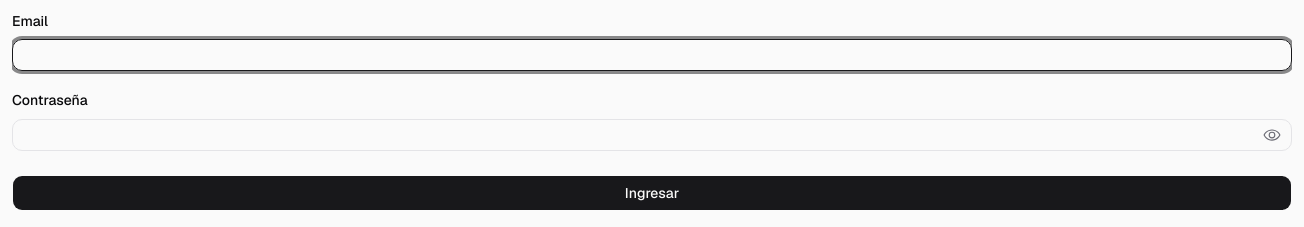
Test: LoginForm › disables the button while signing in
Type "persona@taller.com" into the field labelled "Email".
click(652, 55); type("persona@taller.com")  # box [12,39,1292,71]
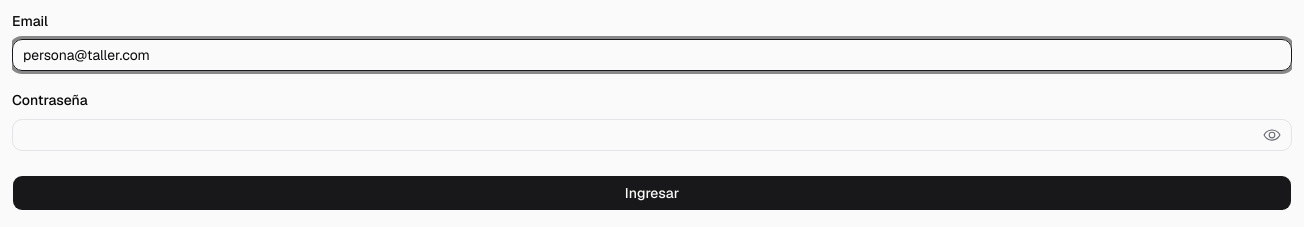
Type "una-clave-larga" into the password field labelled "Contraseña".
click(652, 134); type("una-clave-larga")  # box [12,118,1292,150]
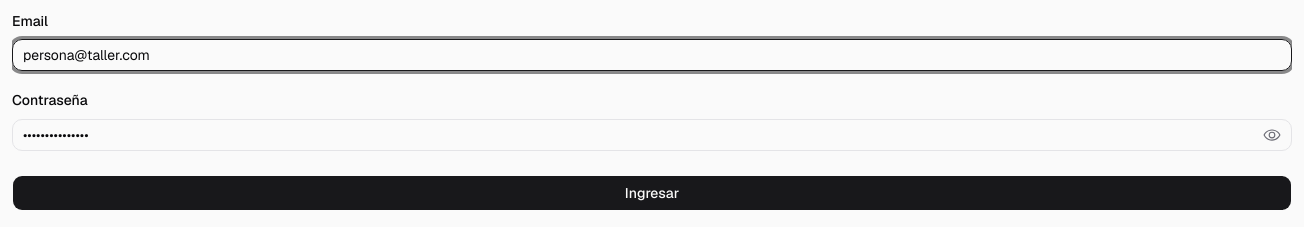
Click the button "Ingresar".
click(652, 192)  # box [12,174,1292,210]
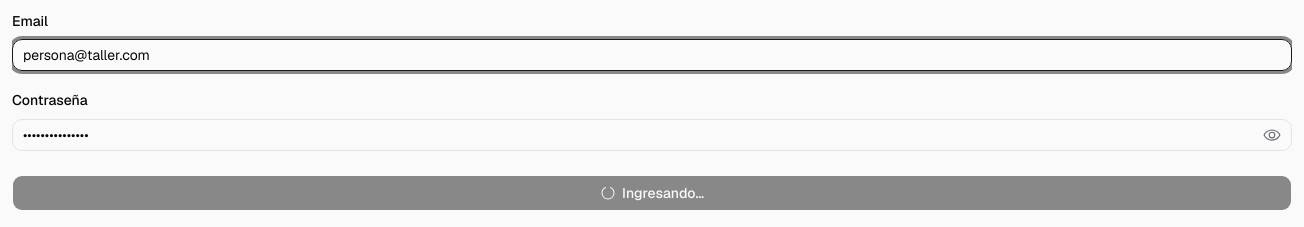
Check: the button "Ingresando…" is disabled, box [12,174,1292,210]
